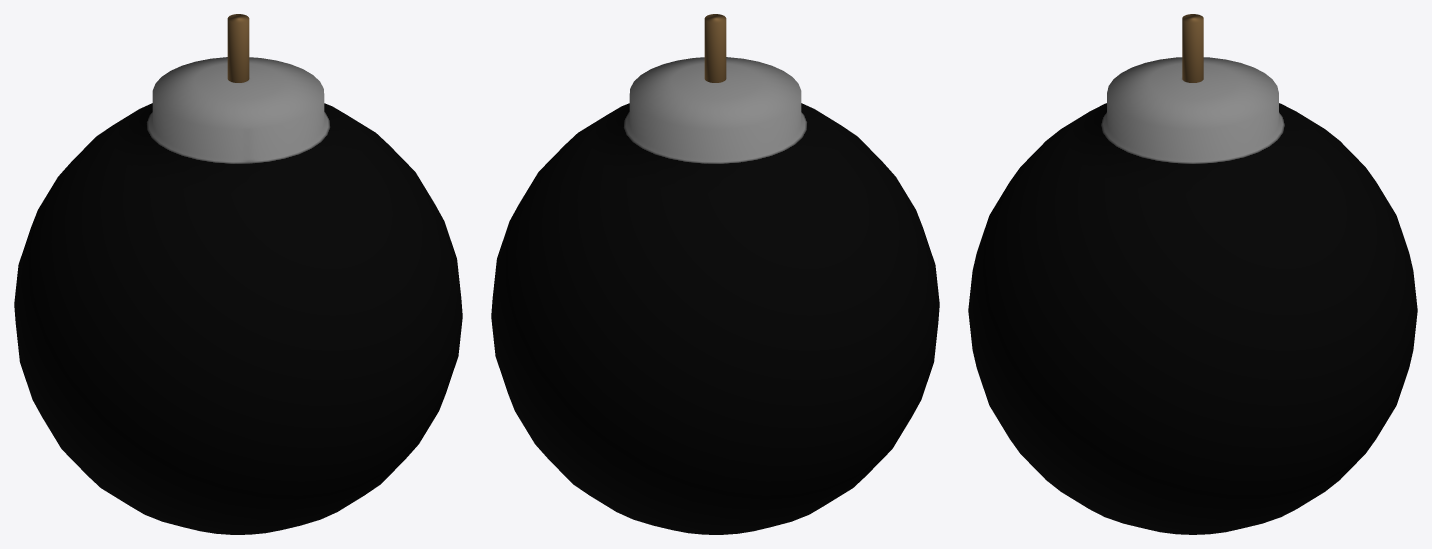
The model's file is Bomb.fbx.
3 renders of one model, left to right at view 1: azimuth 30°, elevation 25°; view 2: azimuth 150°, elevation 25°; view 3: azimuth 270°, elevation 25°, orthographic.
Parts seen in each view (by area): view 1: Body, Rope; view 2: Body, Rope; view 3: Body, Rope.
Boxes of the visible parts, x1,y1,x2,y2 form: Body: [14, 57, 462, 534]; Rope: [227, 14, 249, 82]; Body: [491, 57, 939, 534]; Rope: [704, 14, 726, 82]; Body: [968, 57, 1417, 534]; Rope: [1182, 14, 1203, 82].
Size of the model in its own units: 454 by 552 by 454.
